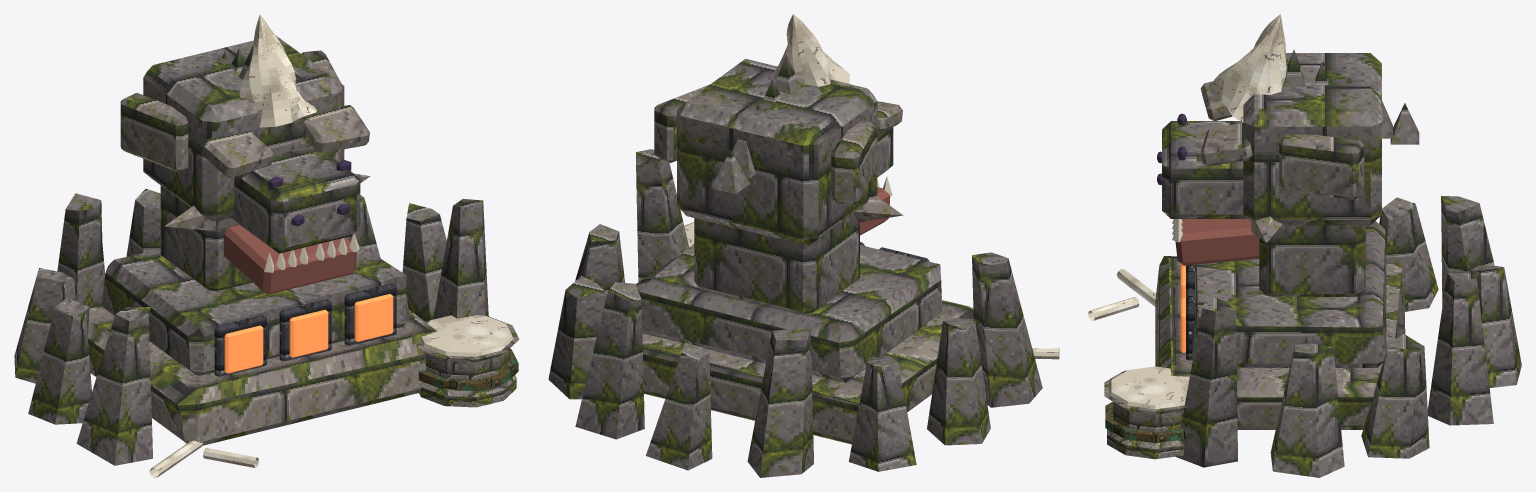
Rendered from totem.glb.
3 views of the same model, side by side, from view 1: azimuth 30°, elevation 25°; view 2: azimuth 150°, elevation 25°; view 3: azimuth 270°, elevation 25° (orthographic).
Visible parts, largest first — view 1: Base, Head, Horn, Rune0, Rune1, Rune2; view 2: Base, Head, Horn; view 3: Base, Head, Horn.
Boxes of the visible parts, box(x1,y1,x2,y2) form: Base: box(14, 189, 519, 477); Head: box(120, 35, 370, 294); Horn: box(239, 14, 316, 127); Rune0: box(224, 325, 263, 373); Rune1: box(289, 309, 328, 357); Rune2: box(354, 294, 393, 341); Base: box(548, 149, 1059, 477); Head: box(654, 54, 903, 313); Horn: box(773, 14, 849, 86); Base: box(1088, 196, 1521, 477); Head: box(1157, 49, 1419, 296); Horn: box(1209, 14, 1286, 122).
Size of the model in its own units: 5.26 by 4.37 by 4.69.
Materials: 8 (5 with a texture image).
